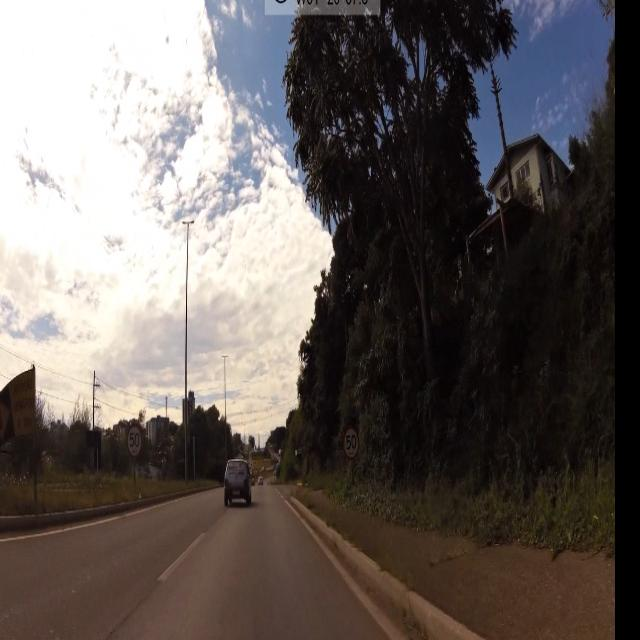R-19: (342, 426, 360, 463)
